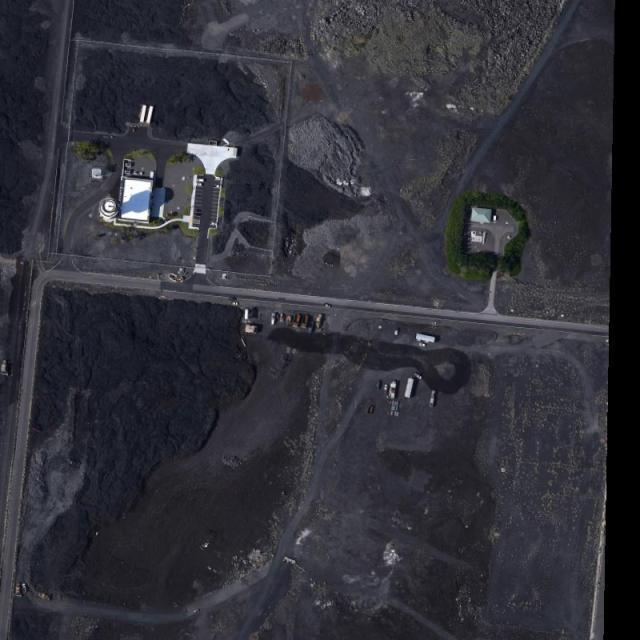vehicle: (270, 311, 276, 326)
